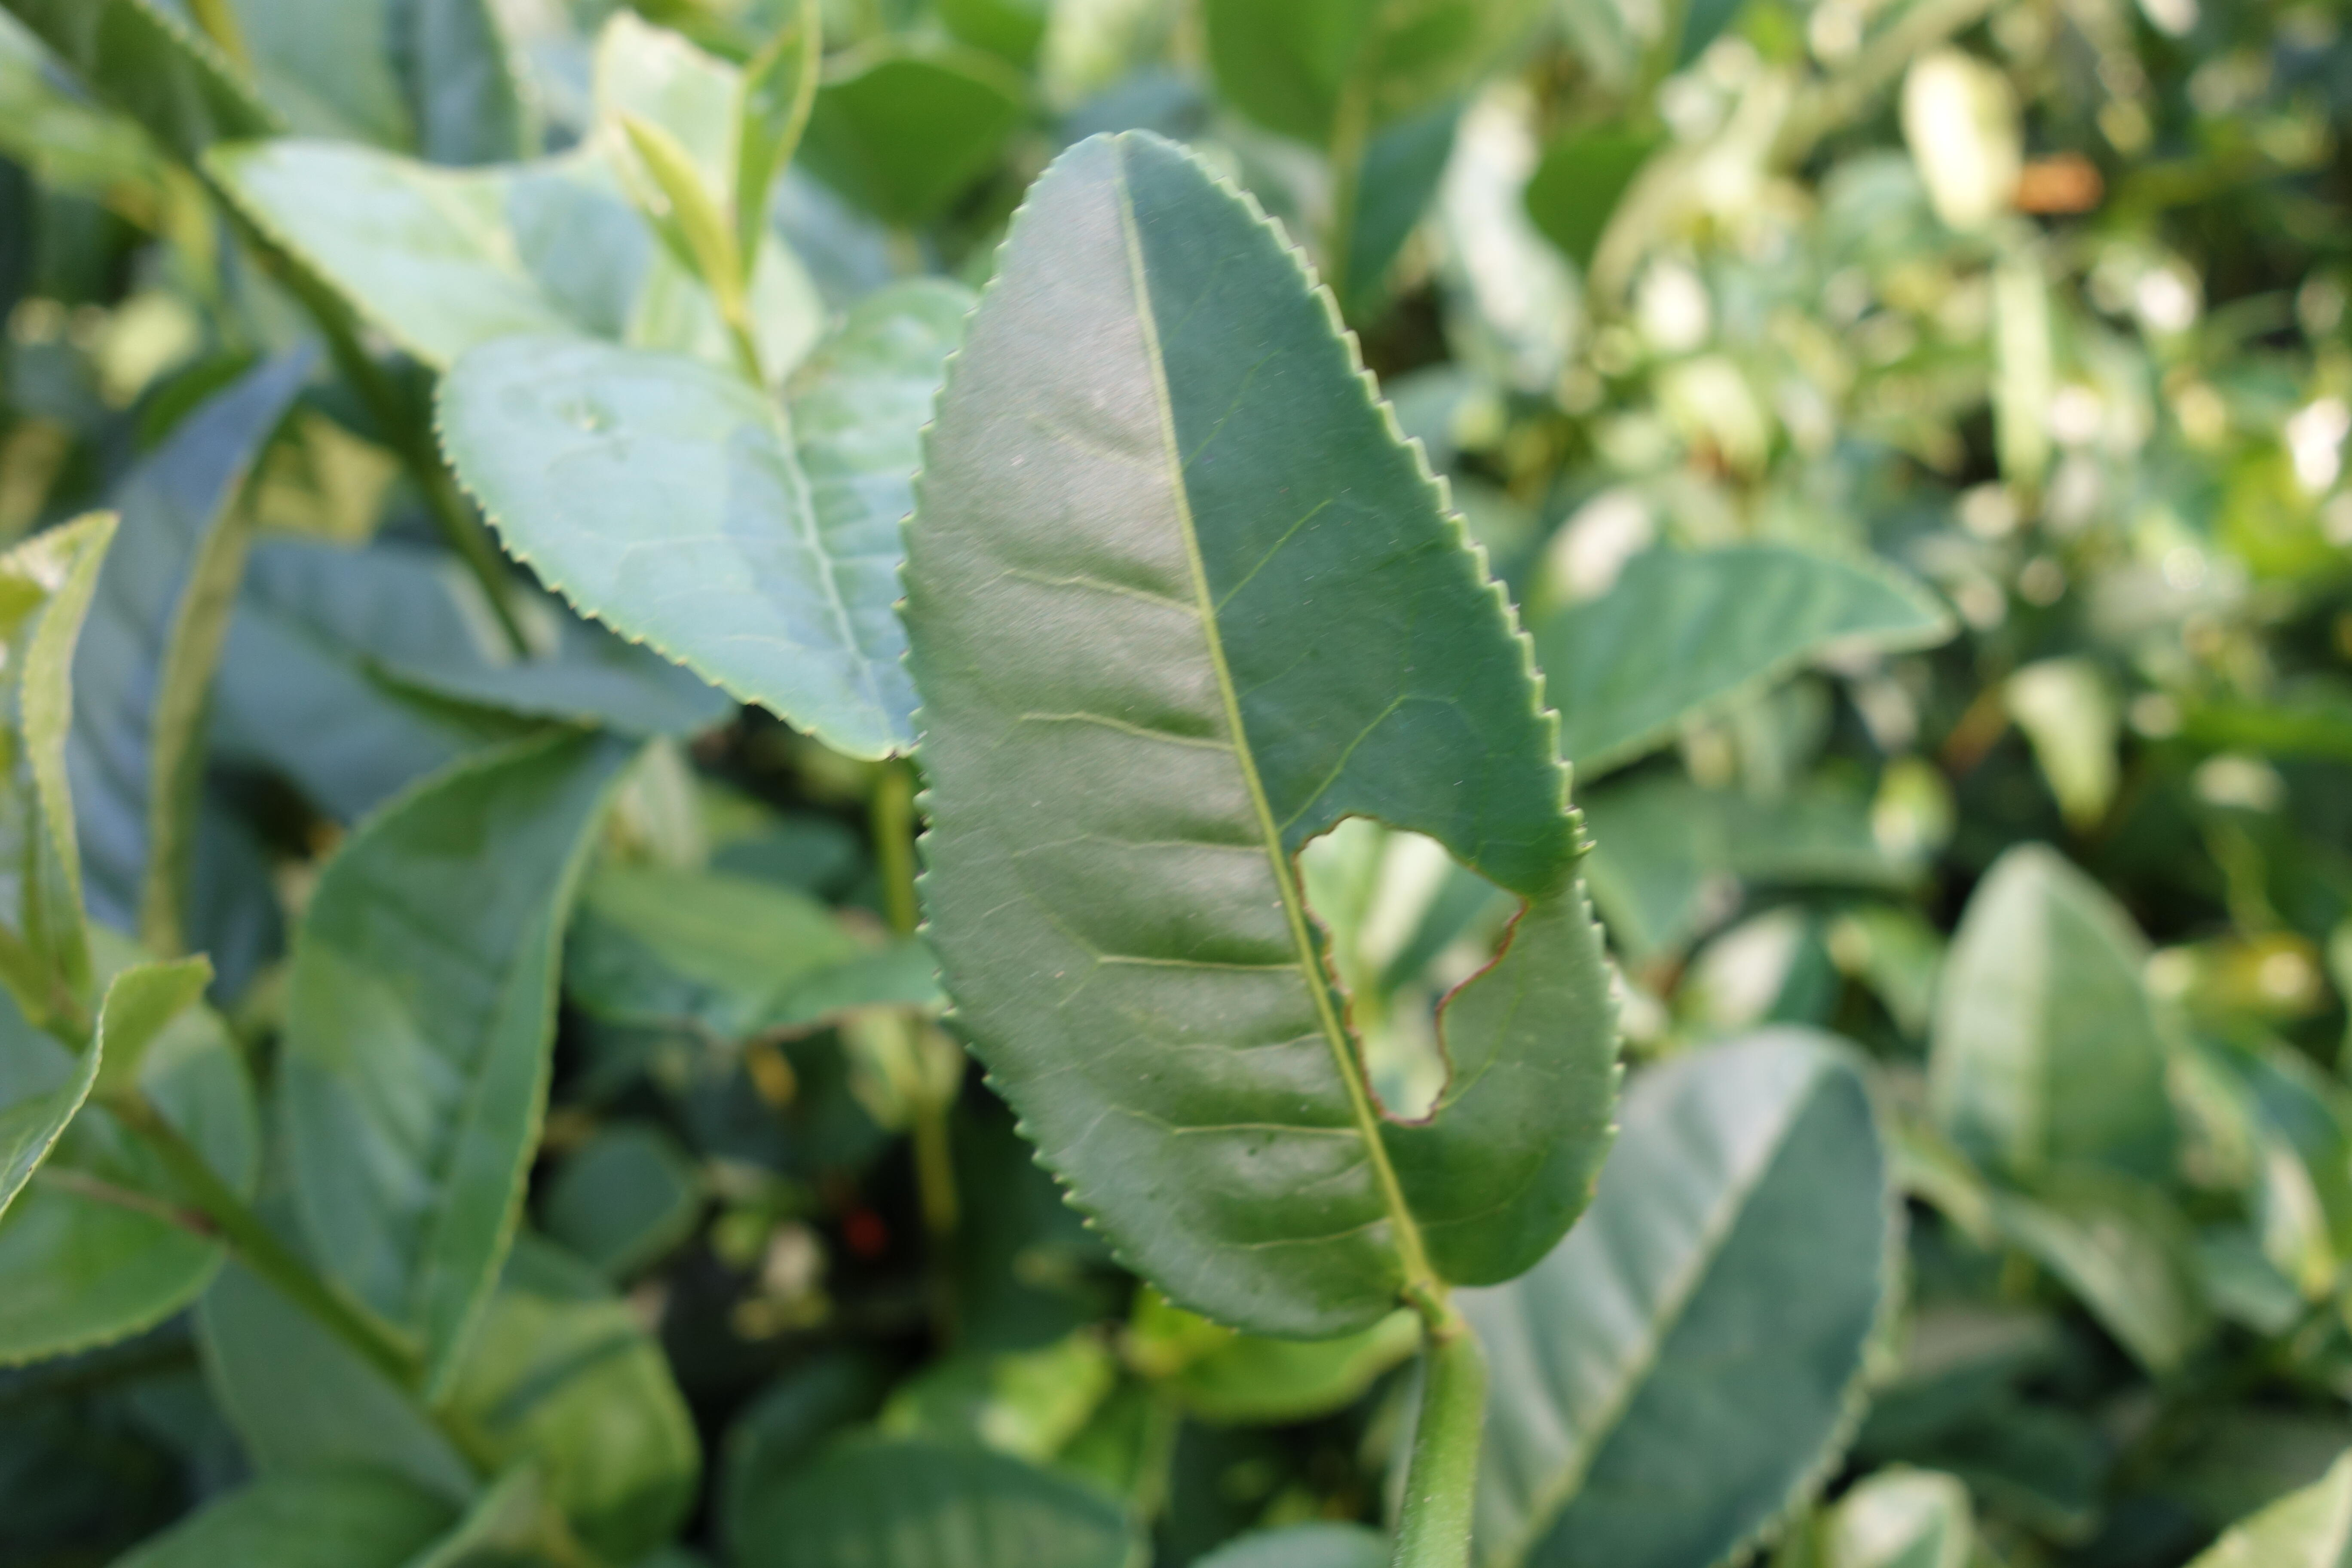chihuo_low: (892, 128, 1633, 1351)
